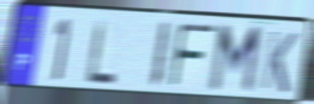1: (52, 17, 72, 85)
F: (167, 21, 219, 92)
I: (147, 20, 173, 91)
K: (259, 28, 300, 95)
L: (86, 17, 118, 86)
M: (206, 24, 264, 97)
